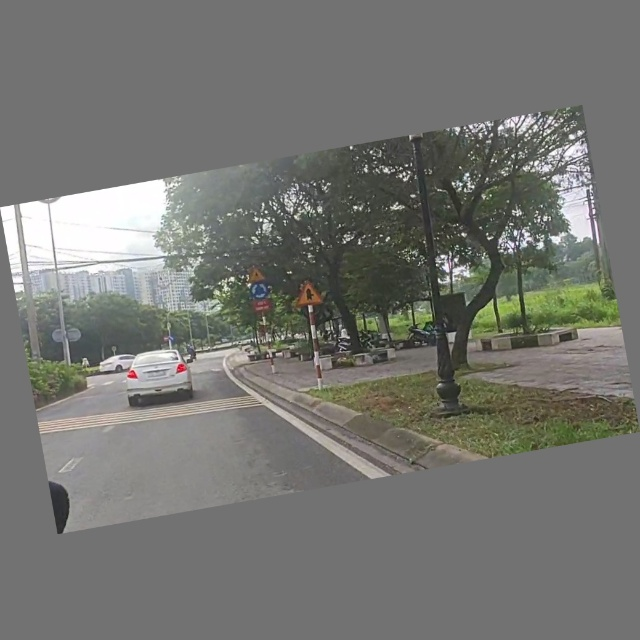P.102: (162, 335, 169, 344)
R.302a: (168, 335, 176, 344)
R.303: (249, 281, 271, 302)
W.207: (290, 280, 324, 310)
W.224: (246, 267, 267, 284)
